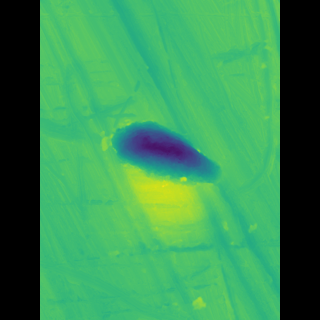Loch: (122, 192, 243, 319), (113, 113, 208, 189)
